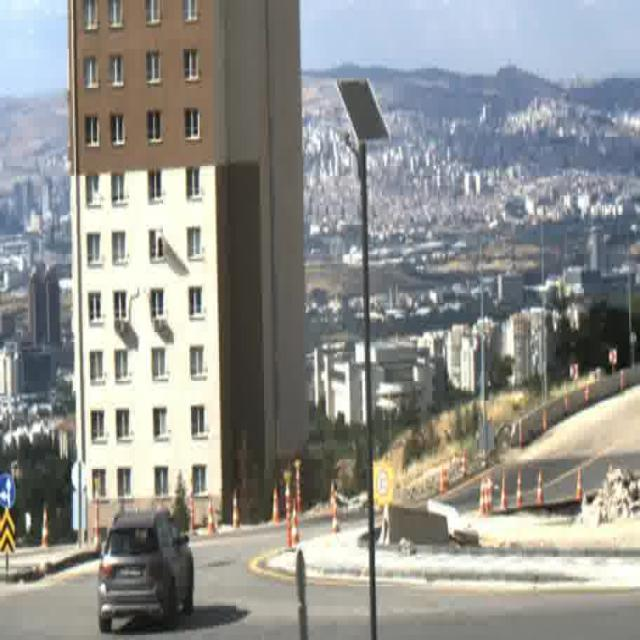Car: (96, 508, 194, 632)
